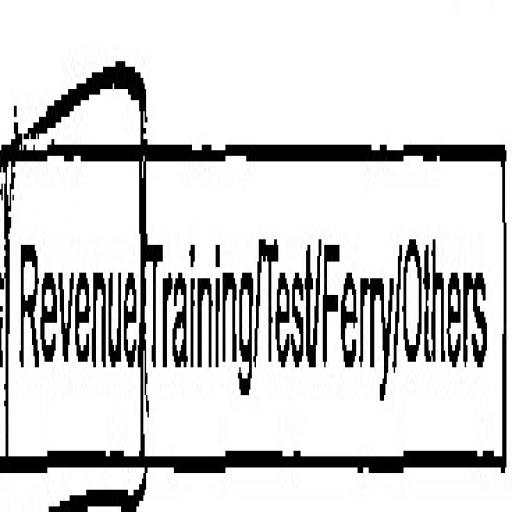check: (0, 8, 149, 512)
